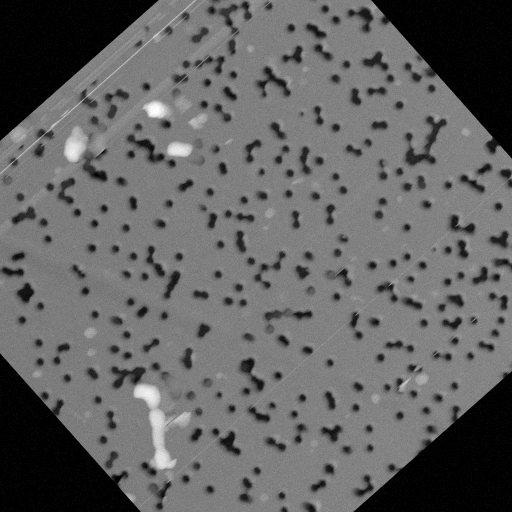Hole: (340, 179, 511, 376), (241, 0, 446, 127), (188, 187, 297, 301), (293, 65, 400, 172), (119, 221, 210, 311), (278, 1, 363, 90), (292, 296, 380, 381), (163, 447, 274, 511), (172, 31, 255, 116), (234, 378, 317, 462), (78, 329, 159, 408), (381, 104, 461, 183), (0, 179, 69, 262), (291, 363, 365, 439), (443, 299, 511, 381), (252, 278, 327, 352), (114, 117, 183, 190), (87, 58, 159, 127), (0, 259, 64, 331), (235, 48, 301, 116), (0, 222, 49, 307), (187, 0, 264, 51), (233, 112, 295, 172), (34, 161, 94, 223), (201, 268, 262, 328), (468, 142, 511, 224), (334, 412, 392, 470), (226, 344, 281, 399), (101, 289, 151, 338), (335, 463, 384, 510), (193, 371, 239, 420), (314, 223, 360, 269), (18, 323, 63, 368), (286, 133, 329, 177), (304, 191, 347, 233), (50, 247, 92, 290), (263, 140, 305, 183), (34, 376, 75, 419), (317, 253, 358, 295), (208, 424, 249, 465), (275, 33, 315, 73), (366, 149, 406, 188), (183, 413, 222, 452), (174, 453, 213, 491), (141, 473, 179, 510), (452, 163, 489, 201), (239, 0, 293, 25), (276, 200, 311, 235), (44, 334, 79, 369), (361, 191, 395, 225), (325, 166, 358, 201), (317, 416, 349, 448), (170, 342, 200, 373), (294, 242, 323, 272), (300, 471, 330, 500), (399, 168, 429, 197), (137, 330, 166, 359), (187, 318, 216, 346), (170, 171, 198, 199), (98, 406, 126, 434), (183, 21, 211, 48), (488, 352, 511, 384), (354, 251, 381, 278), (97, 446, 124, 473), (207, 499, 267, 511), (438, 400, 465, 426), (289, 492, 325, 511), (187, 281, 213, 307), (166, 63, 191, 89), (92, 196, 117, 221), (106, 167, 131, 192), (210, 156, 234, 181), (119, 189, 143, 213), (412, 190, 436, 214), (193, 90, 217, 114), (109, 464, 133, 487), (300, 184, 323, 207), (81, 212, 104, 234), (157, 193, 179, 215), (417, 417, 439, 439), (369, 343, 391, 365), (346, 374, 368, 396), (249, 182, 270, 204), (214, 103, 236, 124), (276, 183, 297, 204), (148, 213, 169, 234), (317, 457, 338, 478), (426, 386, 447, 407), (114, 216, 134, 236), (380, 456, 400, 476), (82, 239, 101, 259), (74, 282, 94, 301), (438, 175, 457, 195), (233, 190, 252, 209), (445, 375, 463, 393), (389, 406, 407, 423), (104, 236, 121, 253), (94, 430, 111, 447), (377, 377, 394, 394), (181, 387, 198, 404), (156, 307, 173, 324), (200, 183, 217, 199), (84, 305, 100, 322), (416, 402, 433, 418), (398, 219, 413, 235), (175, 8, 191, 23), (208, 266, 223, 281), (274, 487, 289, 502), (254, 165, 267, 179), (406, 387, 419, 400), (274, 502, 292, 511), (60, 373, 71, 384), (160, 23, 170, 34)
Particle: (48, 119, 96, 167), (125, 372, 168, 415), (161, 131, 197, 167), (183, 107, 211, 134), (5, 121, 33, 148), (78, 320, 100, 342), (410, 367, 432, 389), (258, 201, 278, 221), (27, 364, 47, 384), (457, 121, 476, 140), (365, 389, 383, 408), (81, 343, 99, 360), (240, 39, 256, 55), (210, 367, 225, 382), (257, 221, 271, 235), (256, 489, 270, 503), (377, 221, 391, 235), (81, 408, 94, 420), (304, 445, 316, 456), (307, 436, 318, 447), (392, 193, 403, 204), (299, 64, 309, 74)
Smear: (141, 392, 205, 458), (136, 90, 176, 131), (167, 405, 196, 433), (167, 90, 192, 115), (287, 169, 310, 191), (394, 375, 414, 395), (219, 131, 238, 150), (147, 27, 166, 46)
